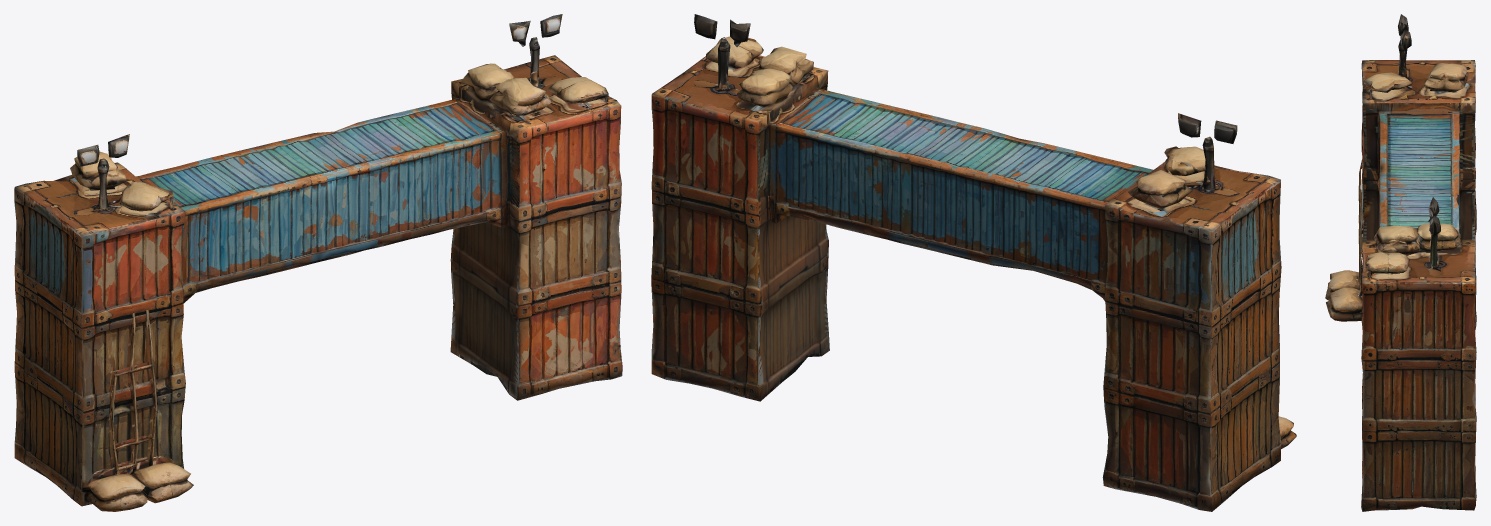
File: Settle_ContainerGate.fbx
3 renders of one model, left to right at view 1: azimuth 30°, elevation 25°; view 2: azimuth 150°, elevation 25°; view 3: azimuth 270°, elevation 25°, orthographic. The views are drawn at different scales.
Visible parts, largest first — view 1: texture_mapping; view 2: texture_mapping; view 3: texture_mapping.
Part boxes in pixels (x1,y1,x2,y2): texture_mapping: [14, 14, 622, 511]; texture_mapping: [651, 14, 1296, 511]; texture_mapping: [1325, 14, 1476, 511].
Size of the model in its own units: 1 by 0.2882 by 0.6001.
Materials: 1 (1 with a texture image).
